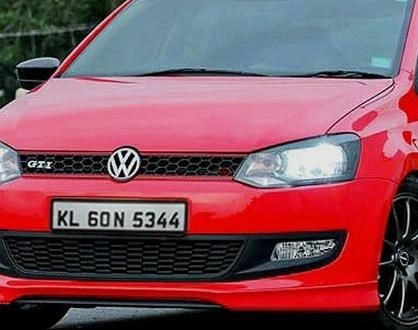number_plate: (53, 206, 185, 232)
